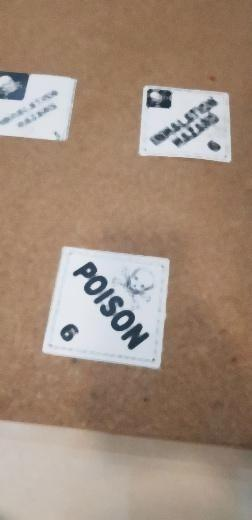poison: (40, 244, 170, 373), (136, 84, 232, 165), (1, 70, 79, 144)
